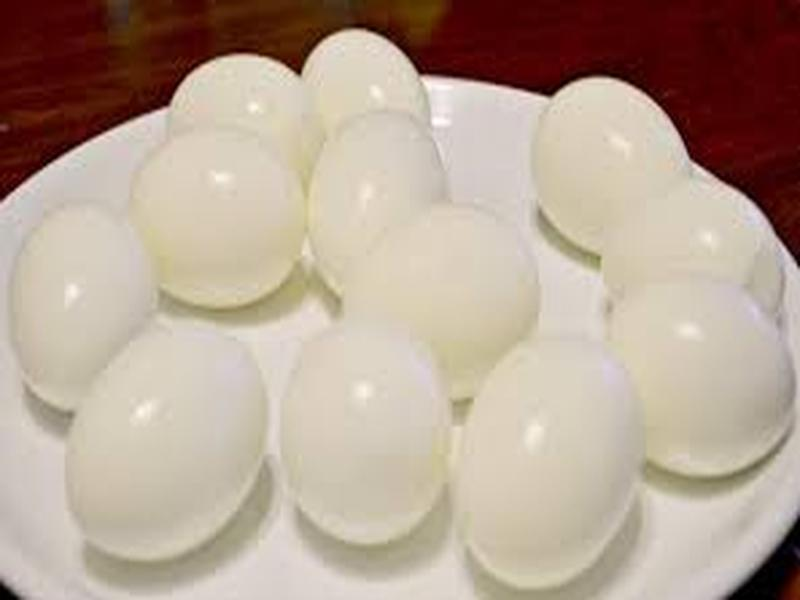egg: (15, 38, 790, 600)
